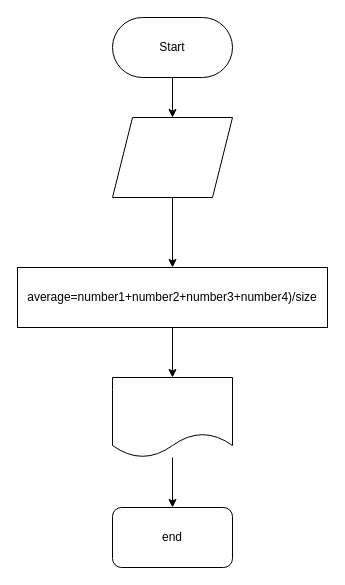
This 345x585 diagram has some shape labels left out. The shapes that lost their labels are listed below. From the top down, each one's box as (x1, y1, x2, y2) in pixels, then its label:
(112, 116, 232, 198): number1, number2, number3, number4, size =4
(112, 376, 232, 458): print average
